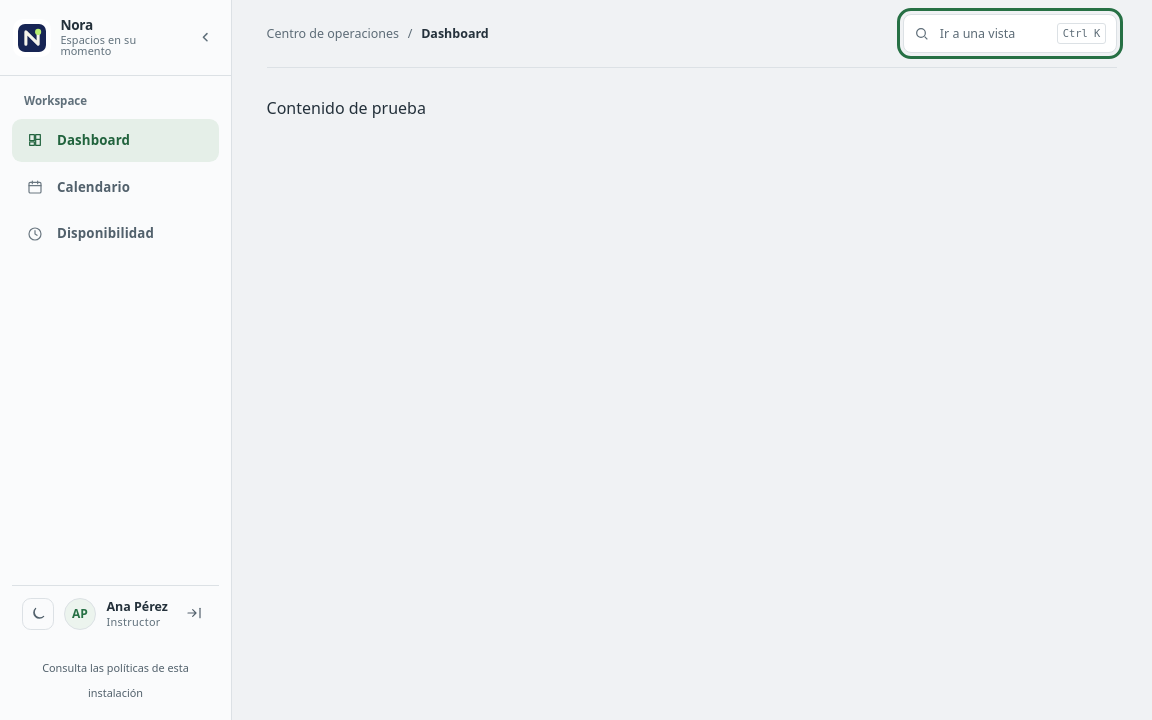
Test case: MainLayout › filtra navegación rápida por rol y devuelve foco con Escape
The width and height of the screenshot is (1152, 720).
Click the button "Ir a una vista Ctrl K": (1010, 33) [903,14,1117,53]
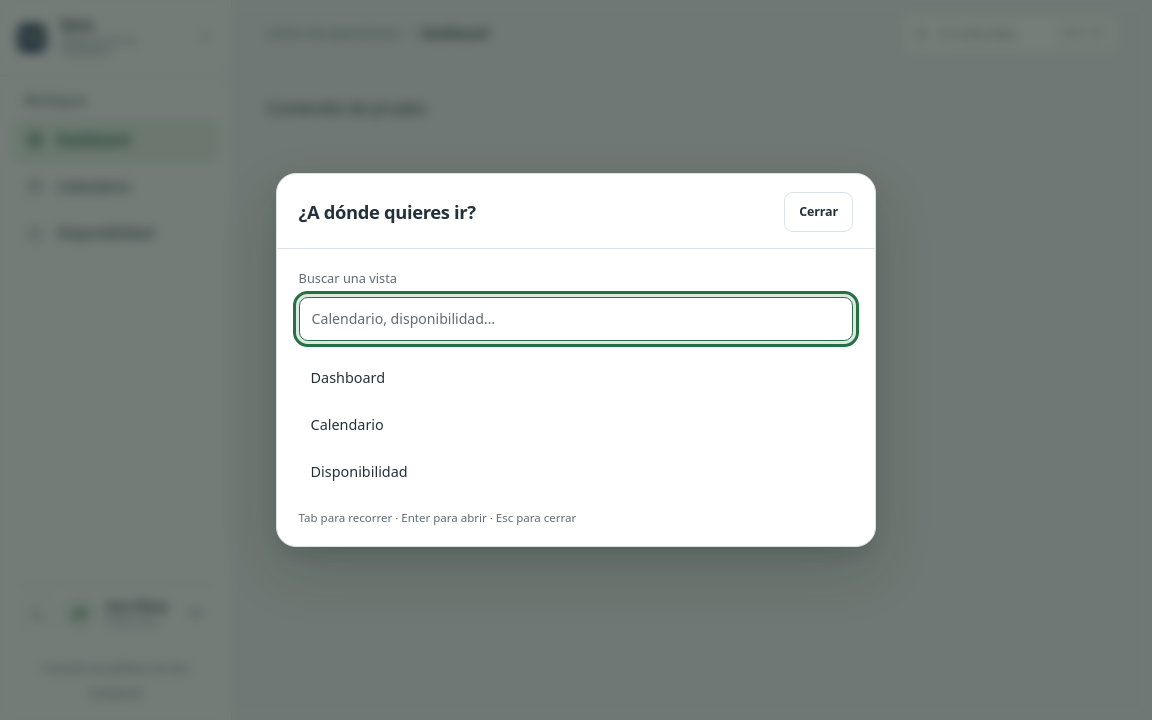
Now the buttons read "DashboardWorkspace", "CalendarioWorkspace", "DisponibilidadWorkspace", in this order, box [299,356,853,400]; [299,403,853,447]; [299,450,853,494]
In the search field: (576, 319) [299,297,853,341], type "Operaciones"
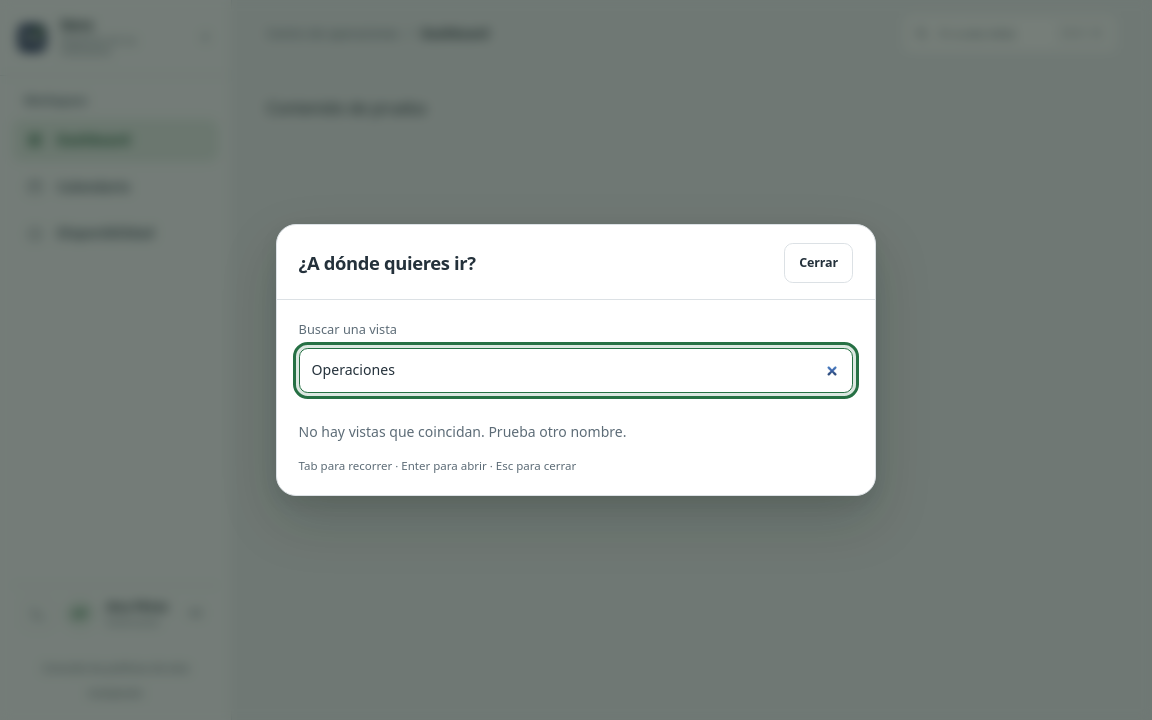
Now the message shows "No hay vistas", box [299,422,626,441]
Press Escape in the search field, box [299,348,853,393]
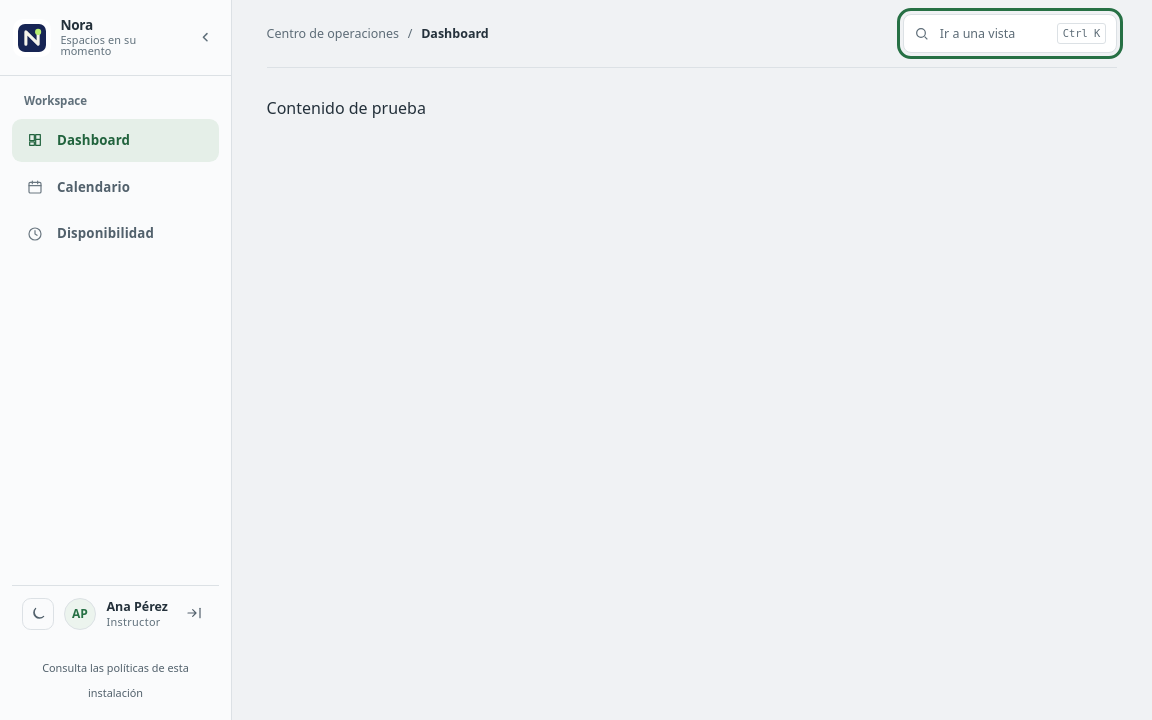
Now the dialog is gone
